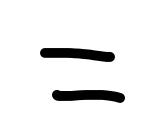eqv: (38, 44, 127, 104)
